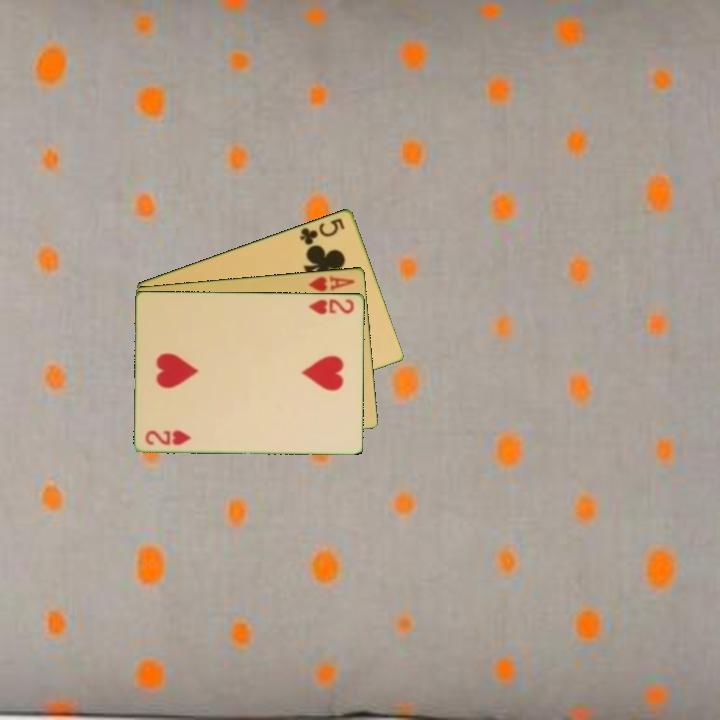2h: (305, 295, 357, 317), (142, 426, 194, 448)
5c: (296, 214, 348, 248)
Ah: (305, 272, 358, 294)
